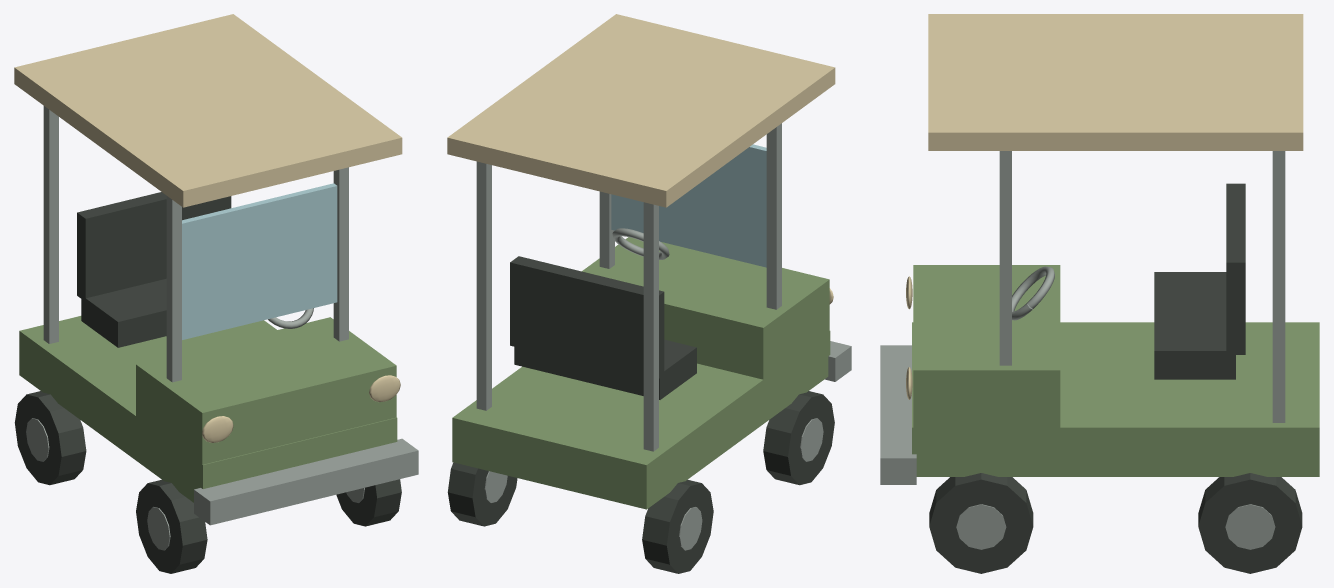
The model's file is zoo-and-safari-park-builder-keeper-buggy-ca9d9ddb__21507.glb.
The picture shows the model from 3 angles, left to right: view 1: azimuth 30°, elevation 25°; view 2: azimuth 150°, elevation 25°; view 3: azimuth 270°, elevation 25°; orthographic projection. The views are drawn at different scales.
Visible parts, largest first — view 1: keeper-buggy; view 2: keeper-buggy; view 3: keeper-buggy.
Boxes of the visible parts, bbox=[...] form: keeper-buggy: bbox=[14, 14, 418, 573]; keeper-buggy: bbox=[447, 14, 851, 573]; keeper-buggy: bbox=[880, 14, 1319, 573].
Size of the model in its own units: 1.25 by 2.15 by 1.94.
